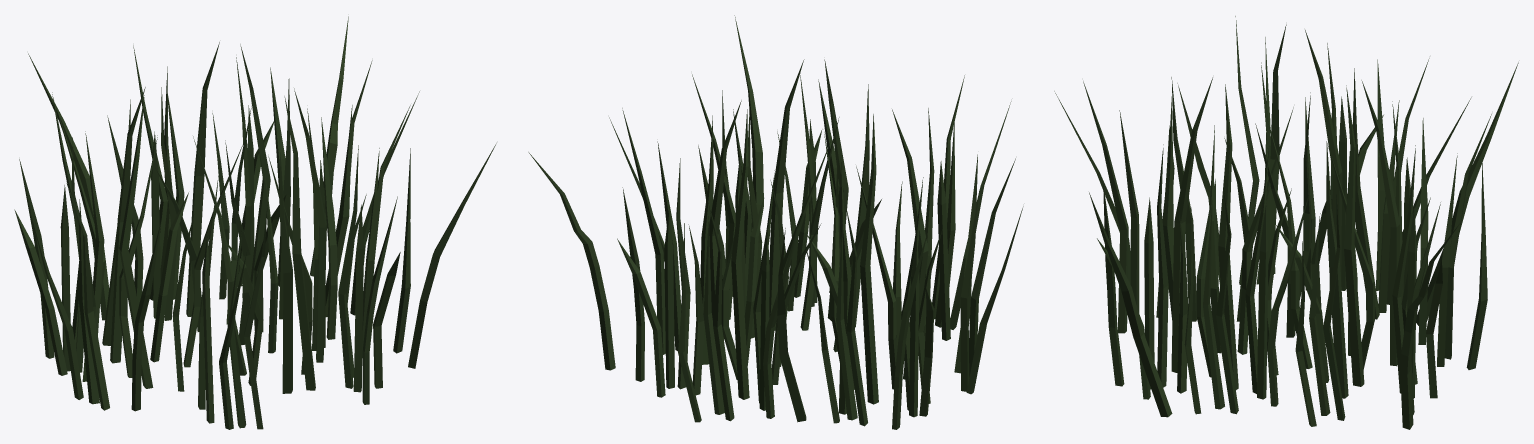
Rendered from Grass7.fbx.
3 views of the same model, side by side, from view 1: azimuth 30°, elevation 25°; view 2: azimuth 150°, elevation 25°; view 3: azimuth 270°, elevation 25° (orthographic). The views are drawn at different scales.
Visible parts, largest first — view 1: Cylinder.001; view 2: Cylinder.001; view 3: Cylinder.001.
Boxes of the visible parts, x1,y1,x2,y2 form: Cylinder.001: [14, 16, 496, 429]; Cylinder.001: [528, 15, 1023, 429]; Cylinder.001: [1054, 16, 1518, 429].
Bounding box in the file's own units: 229 × 150 × 216.
